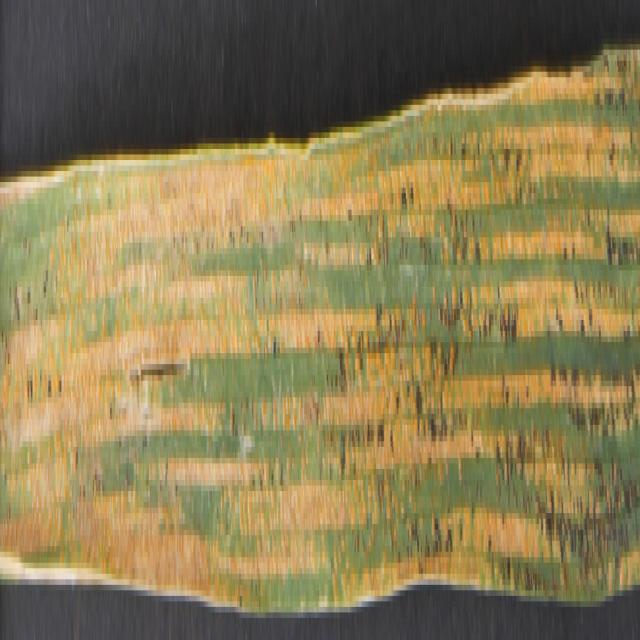leaf rust: (1, 6, 640, 634)
